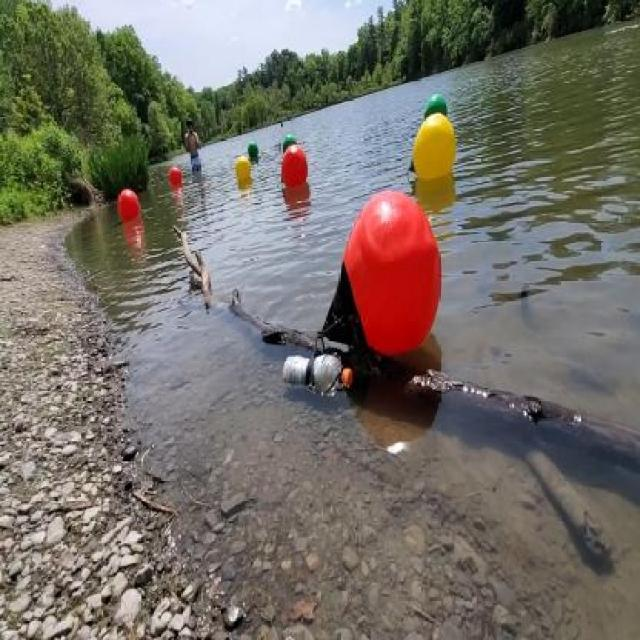buoy: (320, 188, 442, 358), (404, 112, 458, 183), (276, 144, 309, 188), (423, 90, 448, 124), (117, 188, 140, 222), (234, 155, 252, 180), (168, 166, 182, 186), (283, 136, 297, 156), (248, 140, 258, 158)
